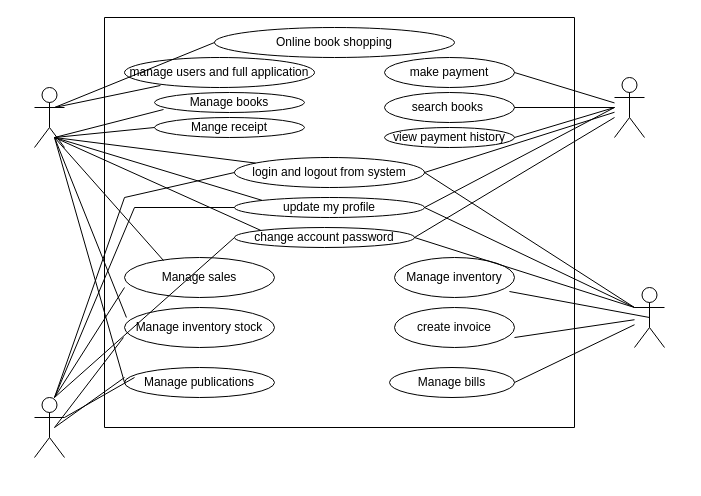
Some shapes in this 701 by 496 pixel diagram are drawn without their labels. The shapes that lost their labels are listed below. From the top down, each one's centre as x and y in pixels, then its label:
At point (49, 117): "Admin".
At point (629, 107): "customer".
At point (649, 317): "shopkeepers".
At point (49, 427): "system user".
